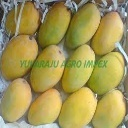mango: (30, 43, 64, 93), (62, 45, 95, 92), (1, 79, 33, 121)
